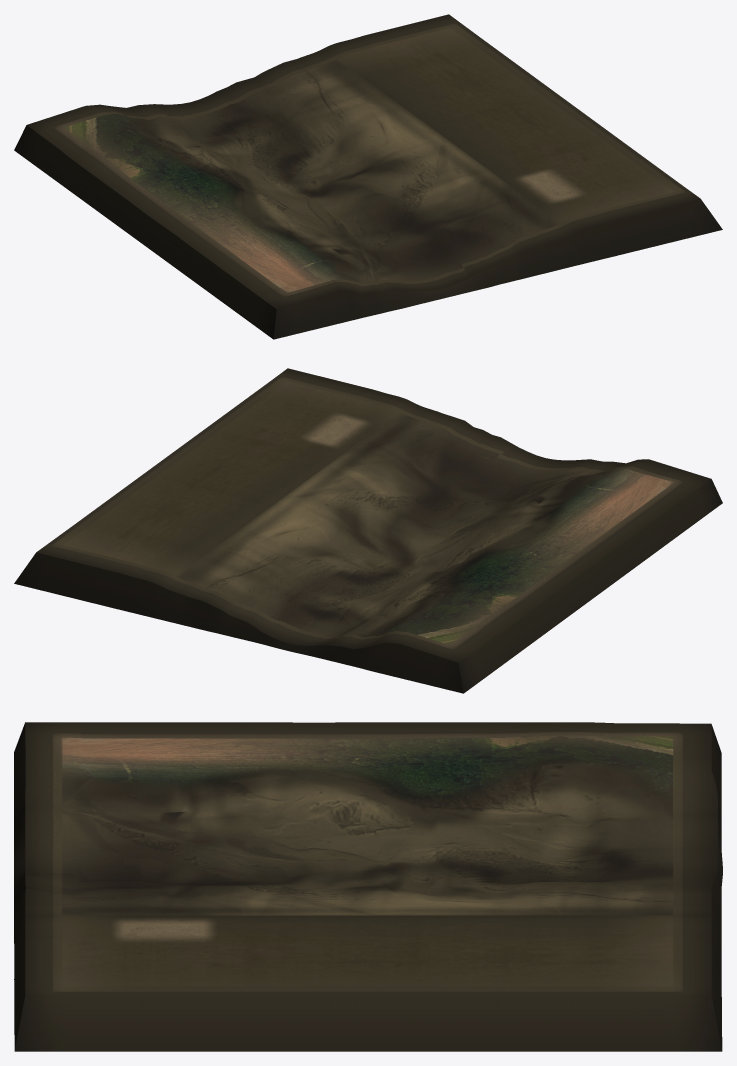
Rendered from levee-ground-elevation.dae.
The picture shows the model from 3 angles, top to bottom: view 1: azimuth 30°, elevation 25°; view 2: azimuth 150°, elevation 25°; view 3: azimuth 270°, elevation 25°; orthographic projection. The views are drawn at different scales.
Parts seen in each view (by area): view 1: Ground; view 2: Ground; view 3: Ground.
Boxes of the visible parts, left/top/right/bottom form: Ground: left=14, top=14, right=722, bottom=339; Ground: left=14, top=368, right=722, bottom=693; Ground: left=14, top=722, right=722, bottom=1051.
Bounding box in the file's own units: 4993 × 355 × 5000.
